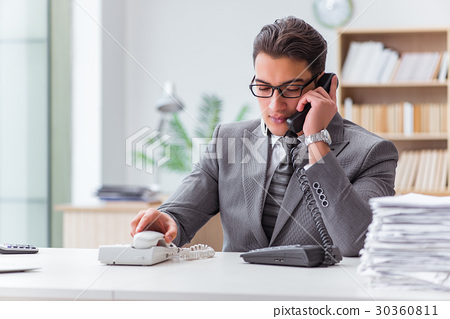phone: (296, 74, 348, 141)
talk: (252, 64, 349, 150)
